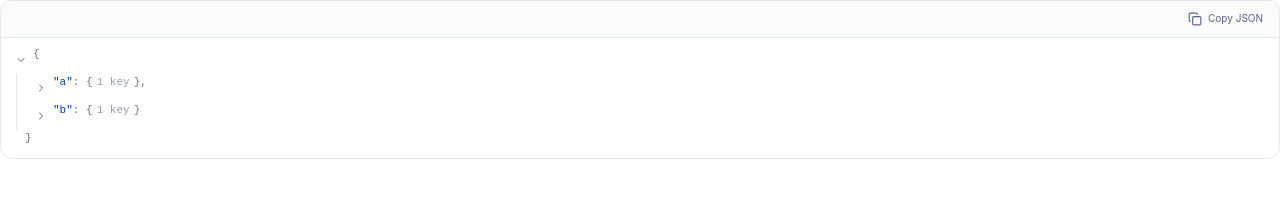
Test: <JsonViewer /> › toggles an individual node without affecting siblings
Expected: the text "\"inside_a\"" is not shown
Click the button named "expand" next to "\"a\"": (41, 88) x1=29 y1=74 x2=53 y2=102
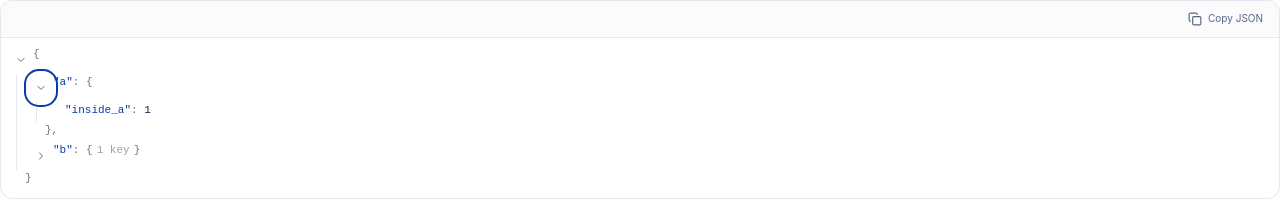
Result: the text "\"inside_a\"" is shown at x1=65 y1=104 x2=131 y2=116
